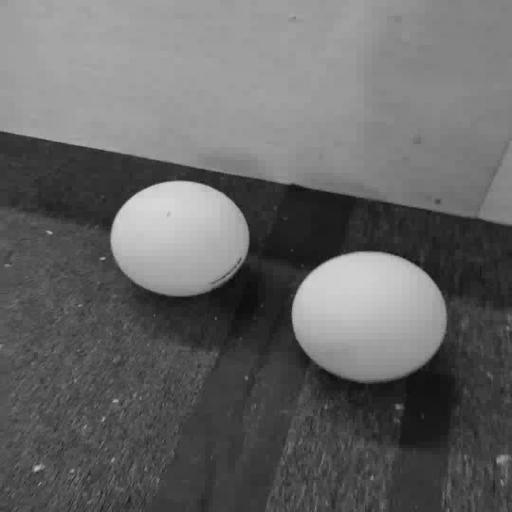fuel: (292, 252, 447, 383), (110, 181, 249, 297)
